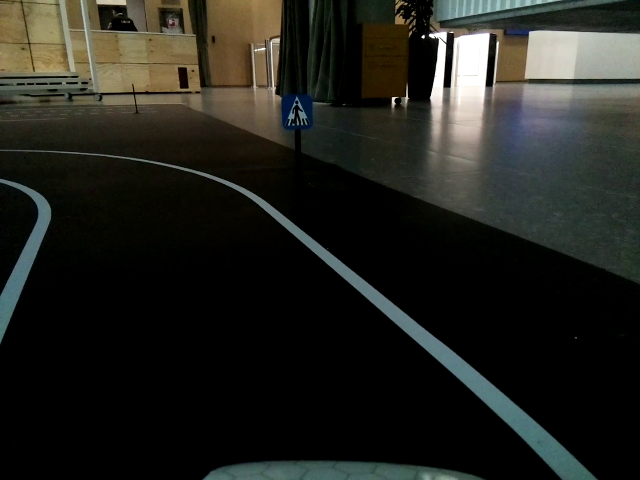pedestrians: (281, 98, 311, 129)
